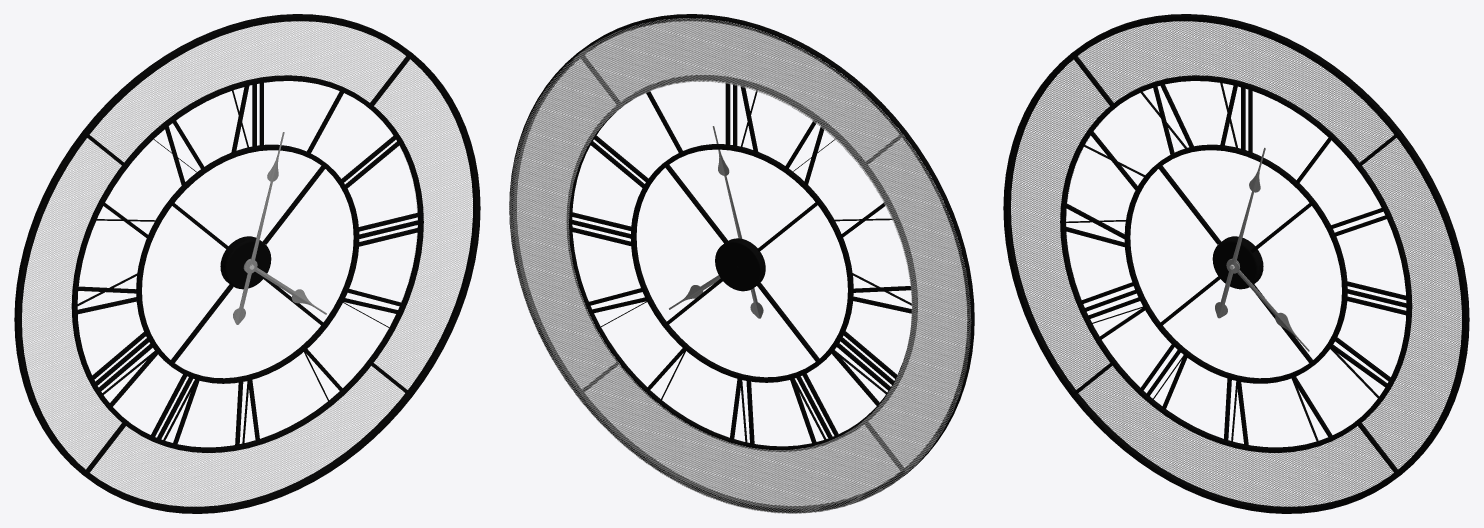
Rendered from clock.glb.
The picture shows the model from 3 angles, left to right: view 1: azimuth 30°, elevation 25°; view 2: azimuth 150°, elevation 25°; view 3: azimuth 330°, elevation 25°; orthographic projection.
Parts seen in each view (by area): view 1: Object_5, Object_2, Object_3, Object_6; view 2: Object_5, Object_2, Object_3, Object_6; view 3: Object_5, Object_2, Object_3, Object_6.
Boxes of the visible parts, x1,y1,x2,y2 form: Object_5: (22,21,472,506); Object_2: (14,14,480,513); Object_3: (21,20,476,509); Object_6: (233,132,326,324); Object_5: (509,18,971,513); Object_2: (509,14,974,513); Object_3: (513,21,967,508); Object_6: (669,126,763,318); Object_5: (1011,21,1461,506); Object_2: (1003,14,1469,513); Object_3: (1007,20,1462,509); Object_6: (1215,147,1309,351).
Bounding box in the file's own units: 0.9508 × 0.9508 × 0.0325.
4 materials, 2 textured.
